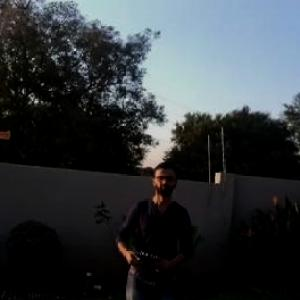follow: (104, 154, 199, 299)
